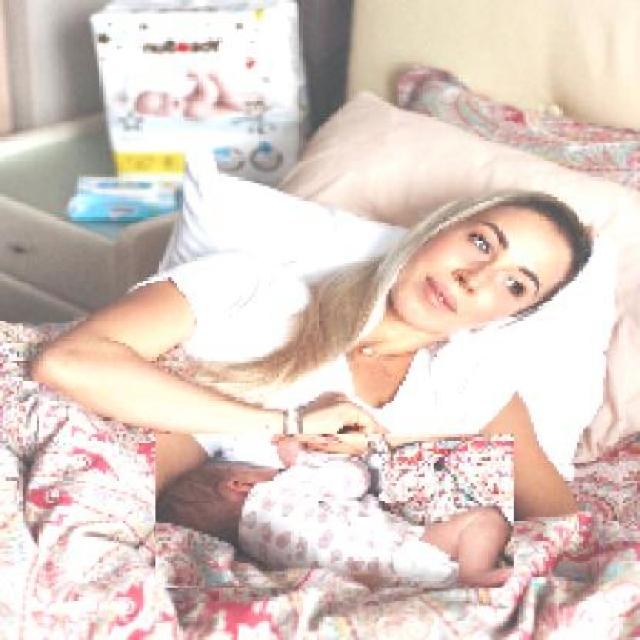child: (153, 434, 513, 589)
